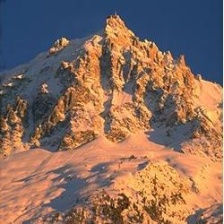neutral: (5, 5, 223, 224)
